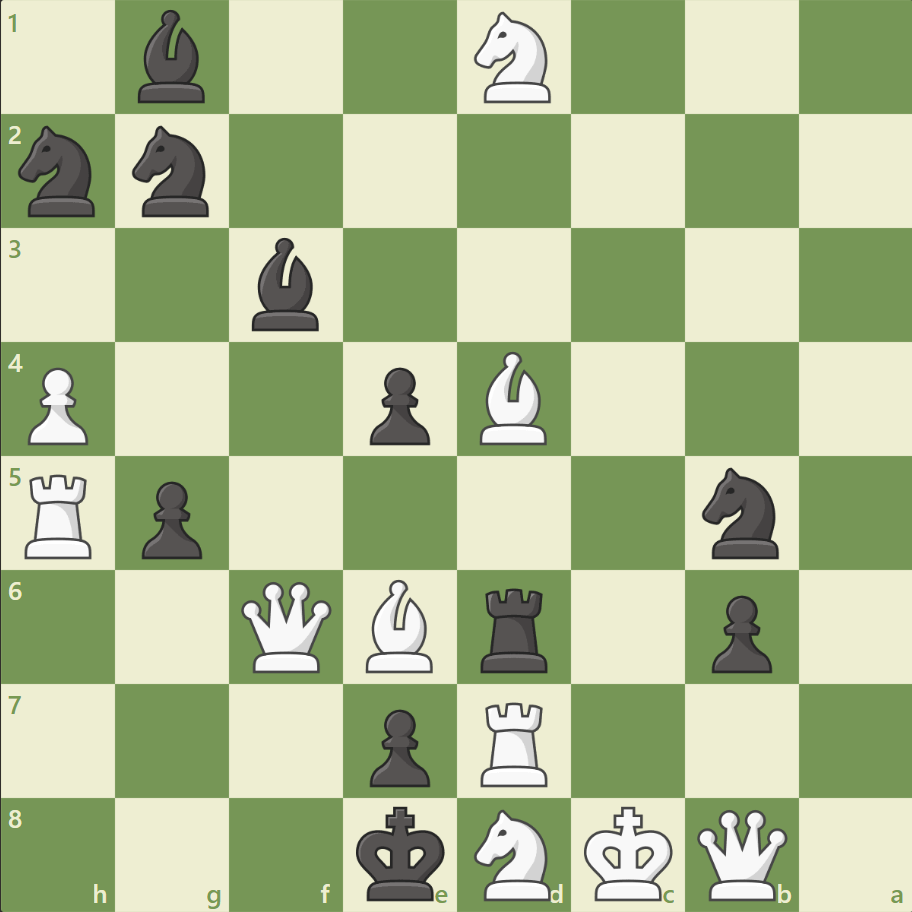B: (358, 574, 442, 676), (471, 347, 555, 449)
K: (579, 798, 679, 906)
N: (465, 7, 562, 110), (465, 802, 562, 904)
P: (20, 359, 95, 450)
Q: (237, 576, 336, 676), (691, 804, 790, 903)
R: (473, 693, 556, 790), (19, 466, 102, 563)
b: (244, 233, 328, 336), (131, 6, 215, 109)
k: (351, 798, 451, 906)
n: (124, 121, 222, 223), (692, 461, 789, 564), (11, 121, 108, 223)
p: (701, 586, 776, 677), (133, 473, 208, 564), (361, 700, 435, 791), (361, 359, 435, 450)
r: (473, 579, 556, 676)
